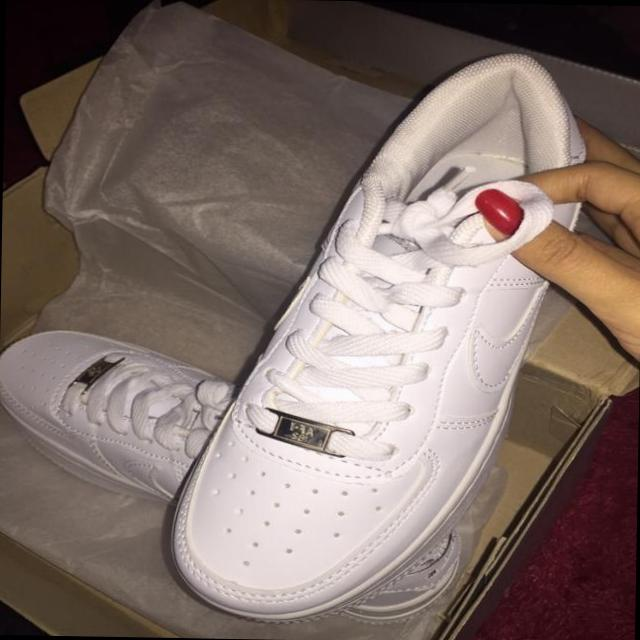nike_fake_airforce: (157, 43, 605, 624), (0, 324, 467, 622)
